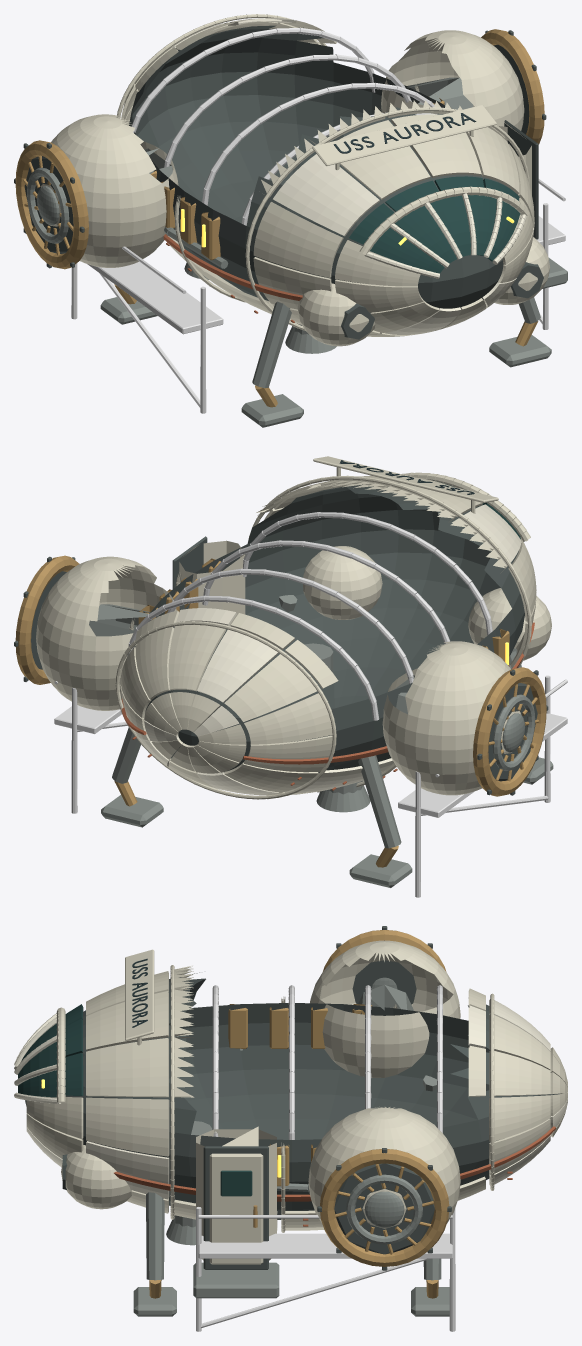
The picture shows the model from 3 angles, top to bottom: view 1: azimuth 30°, elevation 25°; view 2: azimuth 150°, elevation 25°; view 3: azimuth 270°, elevation 25°; orthographic projection.
Parts seen in each view (by area): view 1: RE-075 USS Aurora ferry under construction batched; view 2: RE-075 USS Aurora ferry under construction batched; view 3: RE-075 USS Aurora ferry under construction batched.
Part boxes in pixels (x1=…): RE-075 USS Aurora ferry under construction batched: x1=14, y1=14, x2=567, y2=427; RE-075 USS Aurora ferry under construction batched: x1=14, y1=456, x2=567, y2=897; RE-075 USS Aurora ferry under construction batched: x1=14, y1=926, x2=567, y2=1331.
Bounding box in the file's own units: 12.75 × 6.88 × 13.09.
